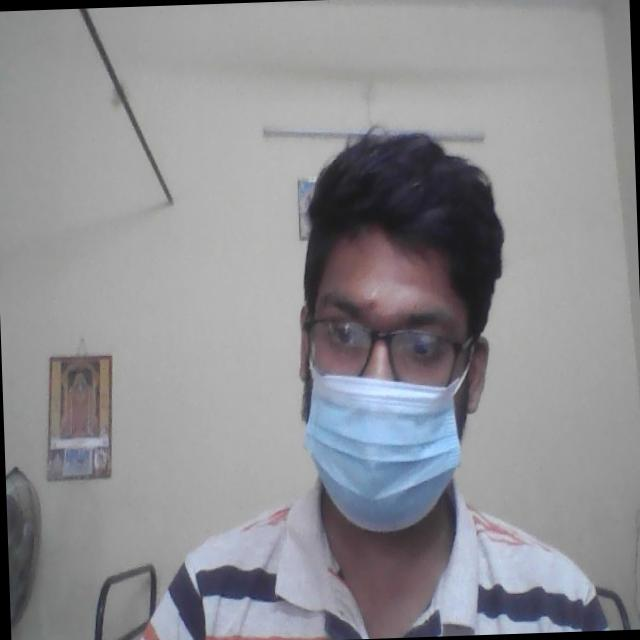Focused: (288, 242, 484, 500)
